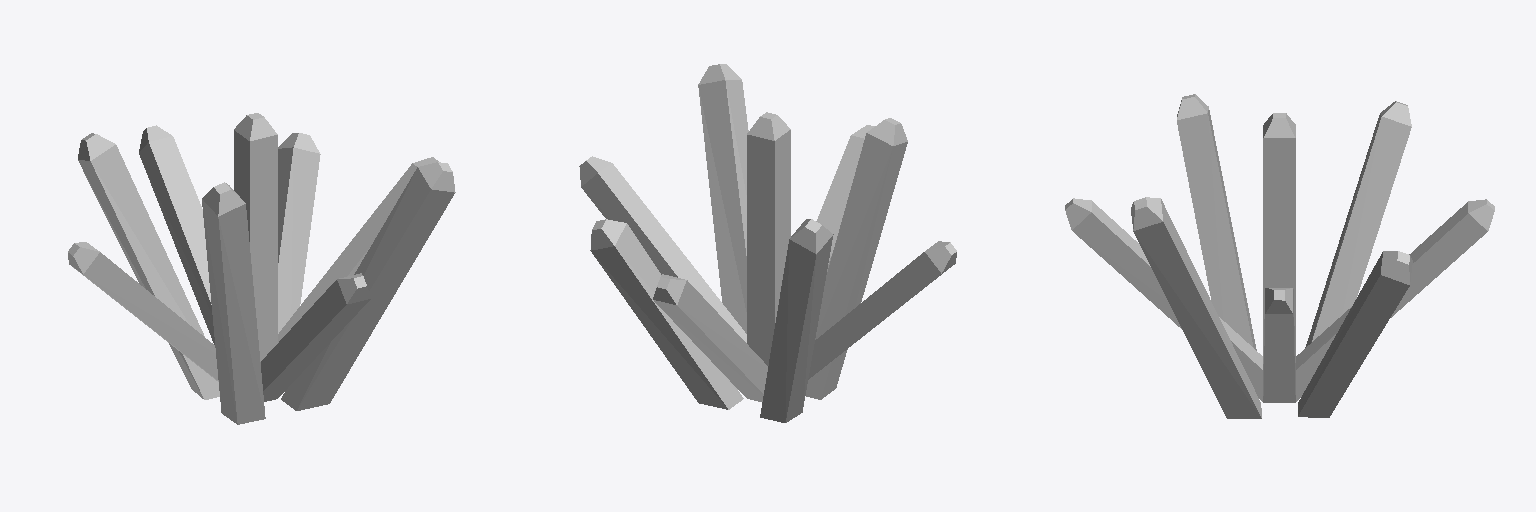
The model's file is crystalOne.obj.
3 views of the same model, side by side, from view 1: azimuth 30°, elevation 25°; view 2: azimuth 150°, elevation 25°; view 3: azimuth 270°, elevation 25° (orthographic).
Parts seen in each view (by area): view 1: crystal; view 2: crystal; view 3: crystal.
Boxes of the visible parts, box(x1,y1,x2,y2) form: crystal: box(68, 113, 455, 424); crystal: box(579, 64, 956, 422); crystal: box(1065, 94, 1494, 418).
Size of the model in its own units: 1.95 by 1.4 by 1.95.